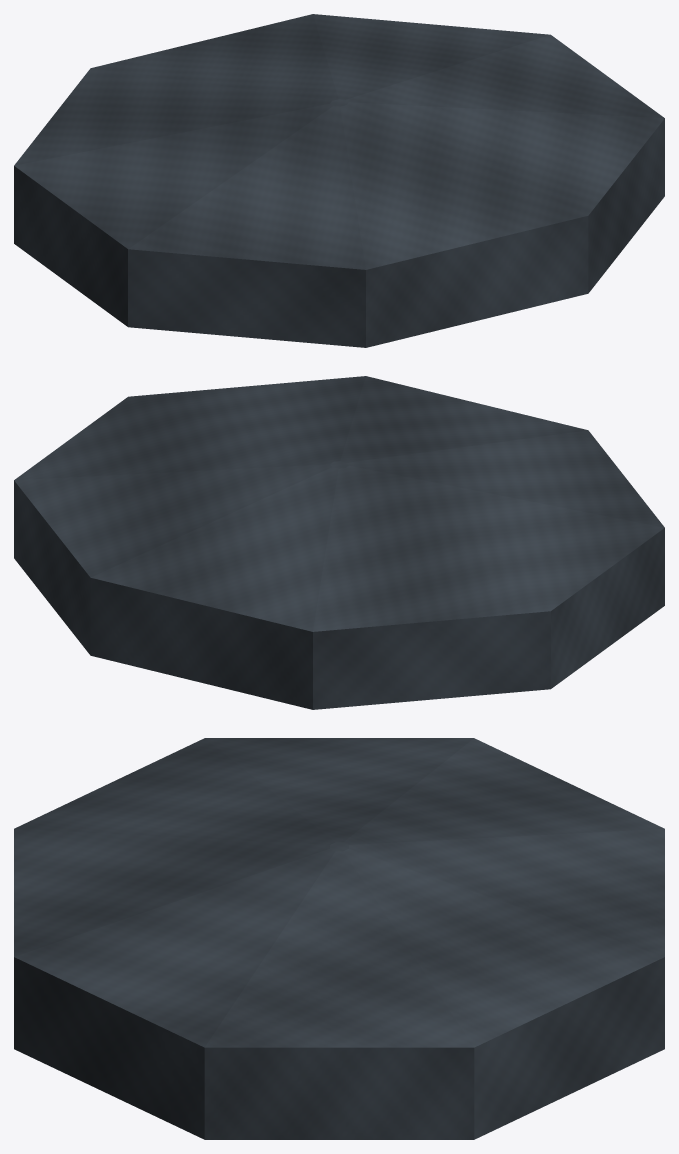
File: Nature_PrismBloom_RockBed.glb
3 views of the same model, one above another, from view 1: azimuth 30°, elevation 25°; view 2: azimuth 150°, elevation 25°; view 3: azimuth 270°, elevation 25° (orthographic). The views are drawn at different scales.
Visible parts, largest first — view 1: Nature_PrismBloom_RockBed; view 2: Nature_PrismBloom_RockBed; view 3: Nature_PrismBloom_RockBed.
Part boxes in pixels (bbox=[...]): Nature_PrismBloom_RockBed: bbox=[14, 14, 664, 347]; Nature_PrismBloom_RockBed: bbox=[14, 376, 664, 709]; Nature_PrismBloom_RockBed: bbox=[14, 738, 664, 1139].
Bounding box in the file's own units: 1.44 × 0.4 × 1.28.
1 material, 1 textured.
